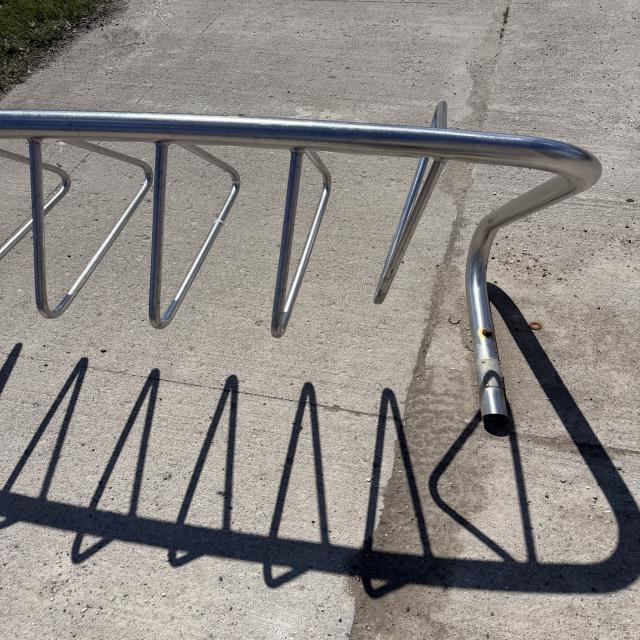Bicycle Rack: (0, 103, 601, 427)
